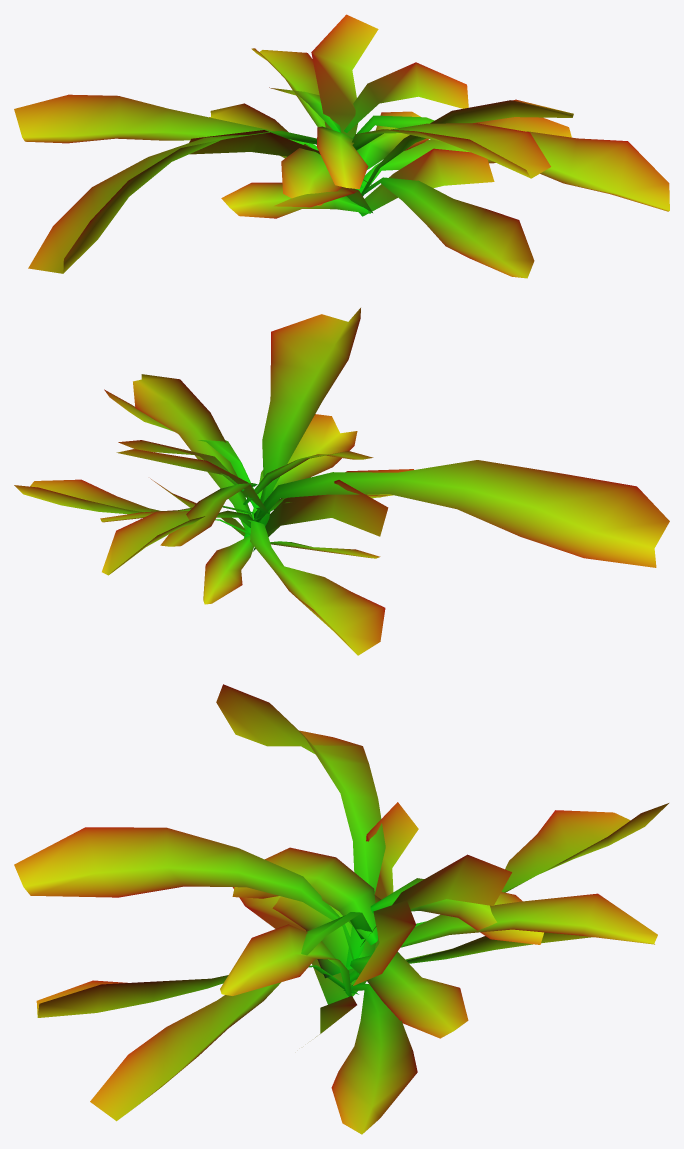
The model's file is Cape Weed_LOD0_Var6_tjmhfcyia.fbx.
The picture shows the model from 3 angles, top to bottom: view 1: azimuth 30°, elevation 25°; view 2: azimuth 150°, elevation 25°; view 3: azimuth 270°, elevation 25°; orthographic projection. The views are drawn at different scales.
Parts seen in each view (by area): view 1: _7789_Var6_LOD0; view 2: _7789_Var6_LOD0; view 3: _7789_Var6_LOD0.
Boxes of the visible parts, x1,y1,x2,y2 form: _7789_Var6_LOD0: [14, 14, 669, 278]; _7789_Var6_LOD0: [14, 308, 669, 655]; _7789_Var6_LOD0: [14, 684, 668, 1134].
Bounding box in the file's own units: 18.11 × 4.39 × 14.11.
